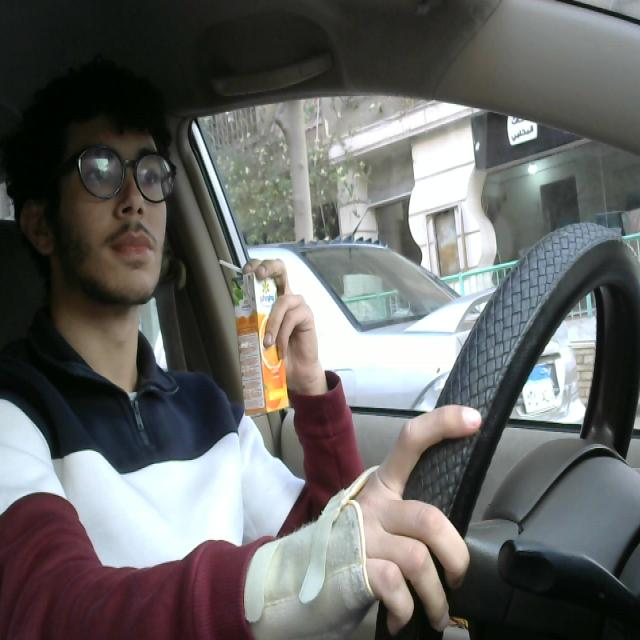drinking: (212, 253, 292, 418)
